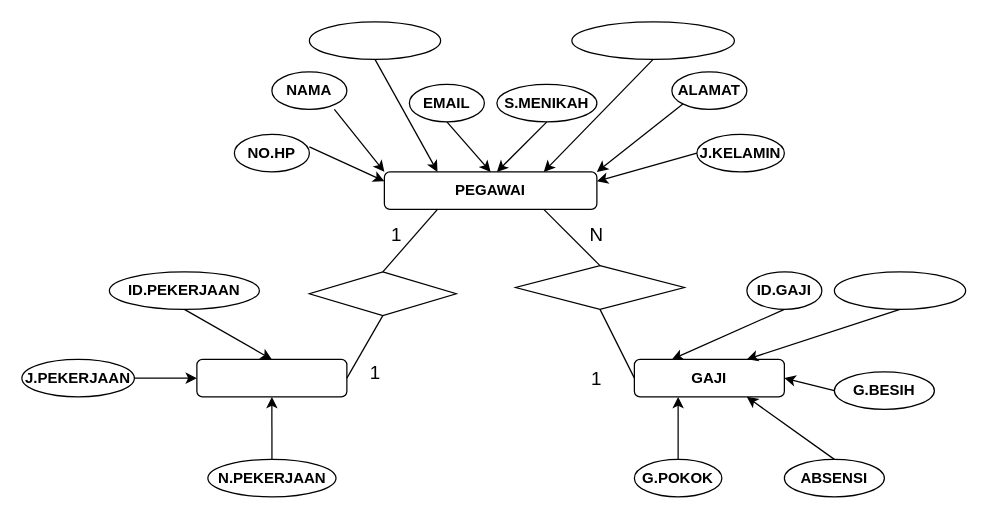
The diagram is 988 pixels wide and 519 high, and some of its shapes have lost their labels. The shapes that lost their labels are listed below. From the top down, each one's box as (x1, y1, x2, y2) in pixels, then its label:
(308, 21, 441, 59): ID.PEGAWAI
(571, 21, 734, 59): NO.REKENING
(308, 271, 456, 316): MEMILIKI
(514, 264, 684, 309): MENDAPAT
(833, 271, 966, 309): TUNJANGGAN
(196, 358, 347, 397): PEKERJAAN
